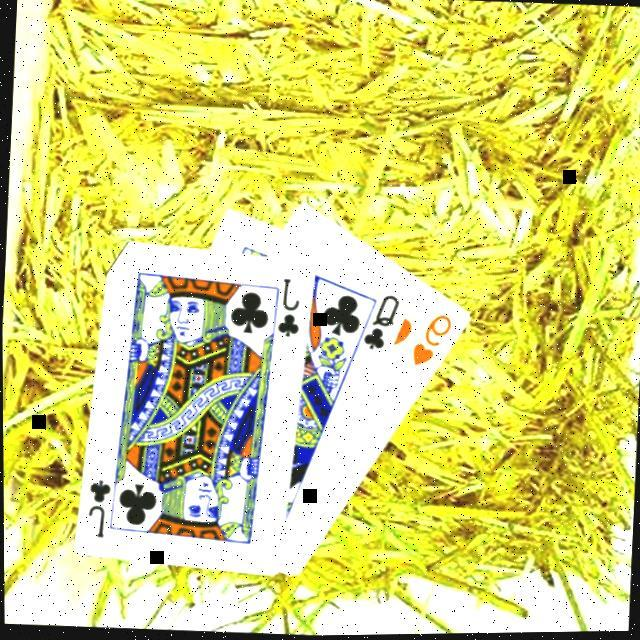9H: (408, 312, 456, 375)
JC: (275, 277, 306, 342), (83, 478, 114, 543)
QC: (360, 293, 404, 358)
